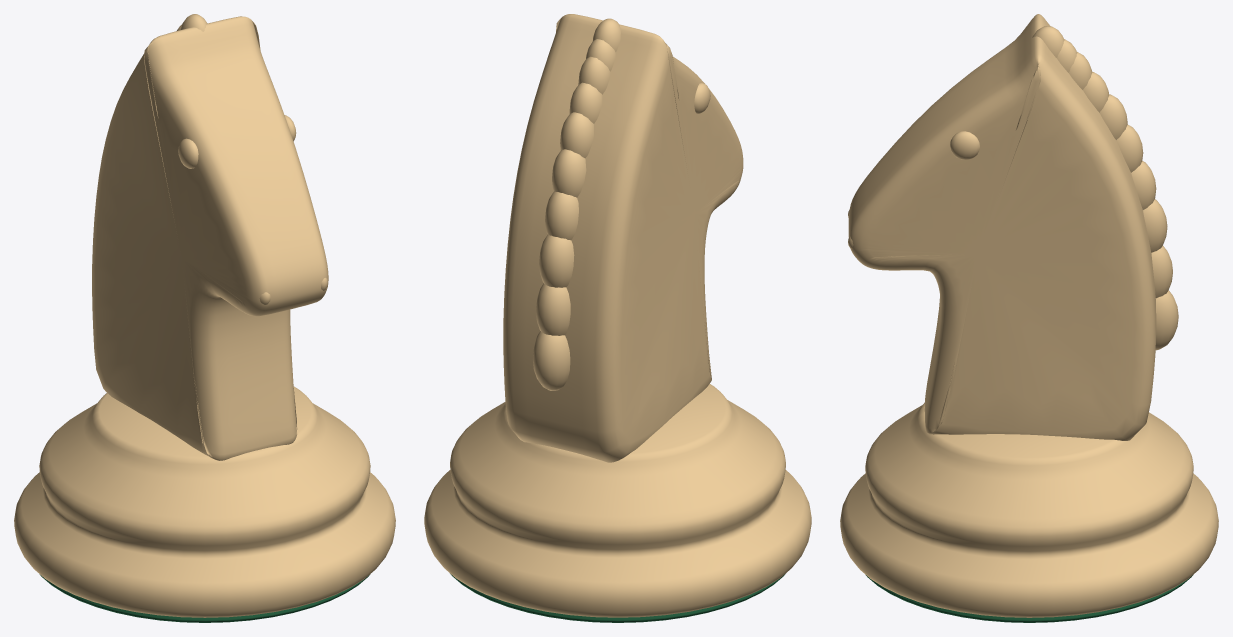
Rendered from knight.glb.
3 views of the same model, side by side, from view 1: azimuth 30°, elevation 25°; view 2: azimuth 150°, elevation 25°; view 3: azimuth 270°, elevation 25° (orthographic). The views are drawn at different scales.
Visible parts, largest first — view 1: Knight, Felt; view 2: Knight, Felt; view 3: Knight, Felt.
Boxes of the visible parts, left/top/right/bottom form: Knight: left=14, top=14, right=395, bottom=617; Felt: left=39, top=574, right=370, bottom=622; Knight: left=424, top=14, right=811, bottom=617; Felt: left=450, top=573, right=785, bottom=622; Knight: left=840, top=14, right=1218, bottom=617; Felt: left=866, top=575, right=1192, bottom=622.
Bounding box in the file's own units: 0.068 × 0.1034 × 0.068.
